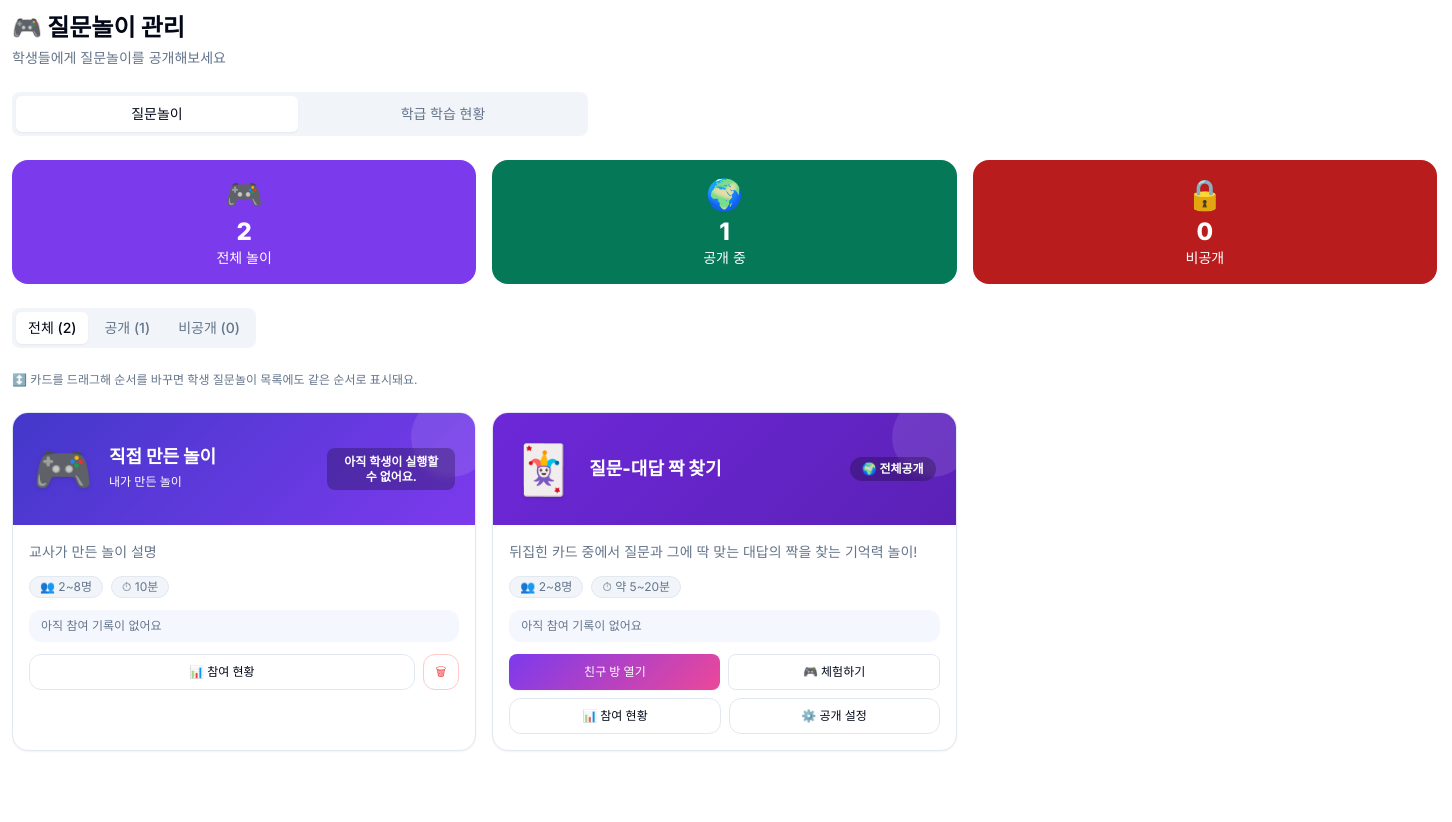
질문놀이 실행 가능 상태 › 직접 만든 놀이는 공개 수치와 공개 탭 목록에서 제외한다
expect the heading "직접 만든 놀이" is shown: met, box x1=109 y1=446 x2=216 y2=468
expect the text "1" is shown: met, box x1=719 y1=217 x2=730 y2=246
Press the mouse on the tab "공개 (1)" at point(127, 328), box x1=92 y1=312 x2=162 y2=344
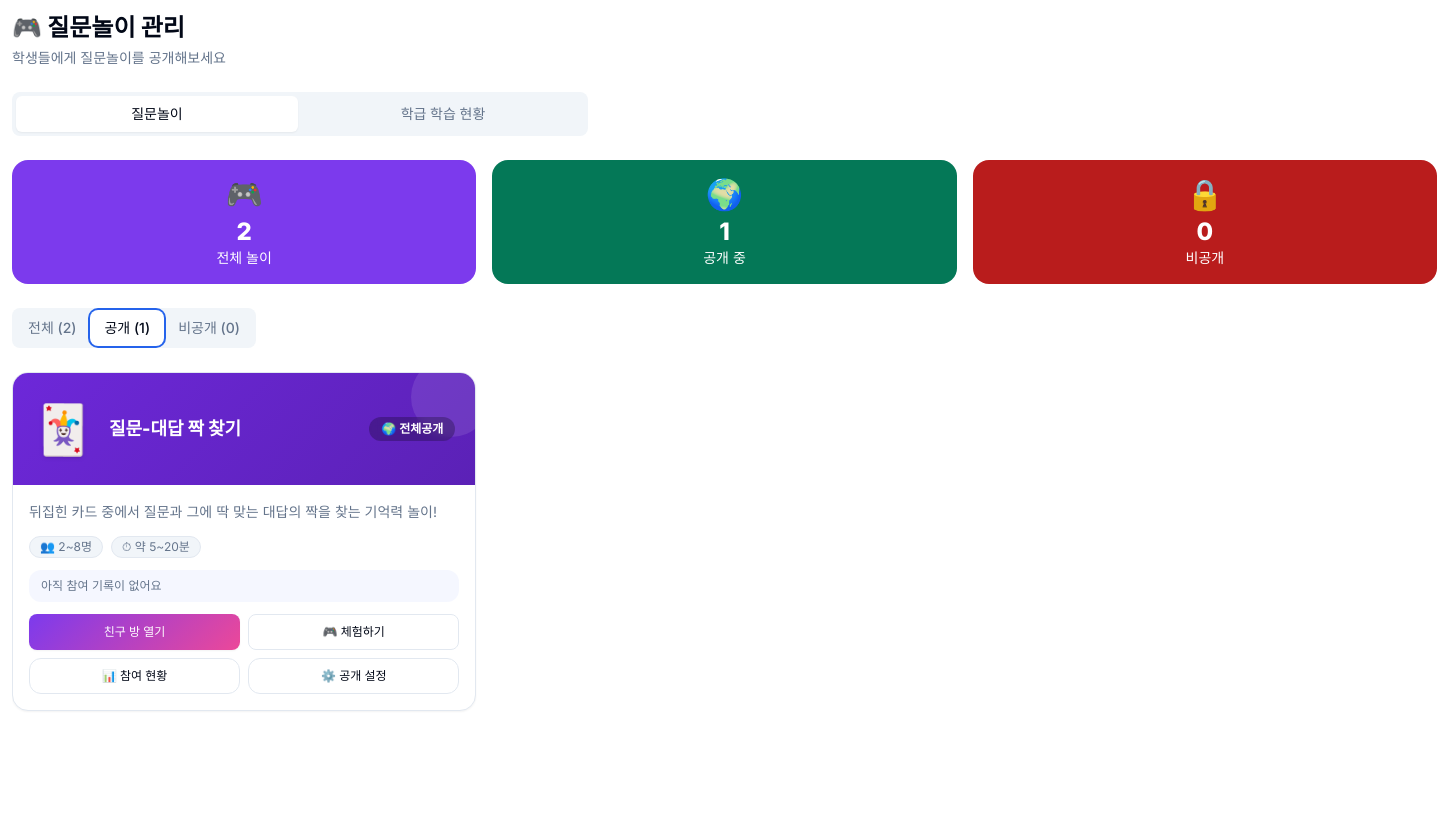
expect the heading "질문-대답 짝 찾기" is shown: met, box x1=109 y1=418 x2=241 y2=440
expect the heading "직접 만든 놀이" is gone: met
